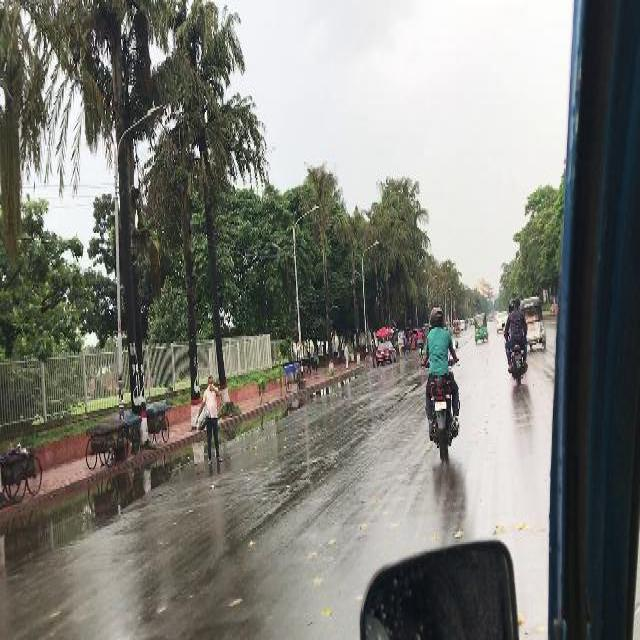bike: (419, 343, 462, 464), (506, 299, 527, 386)
vehicle: (1, 444, 43, 504), (83, 421, 131, 471), (527, 294, 547, 355), (148, 401, 173, 447), (473, 314, 490, 346), (377, 341, 398, 366), (285, 365, 301, 391), (496, 310, 505, 332), (456, 319, 461, 335), (462, 319, 469, 330)
